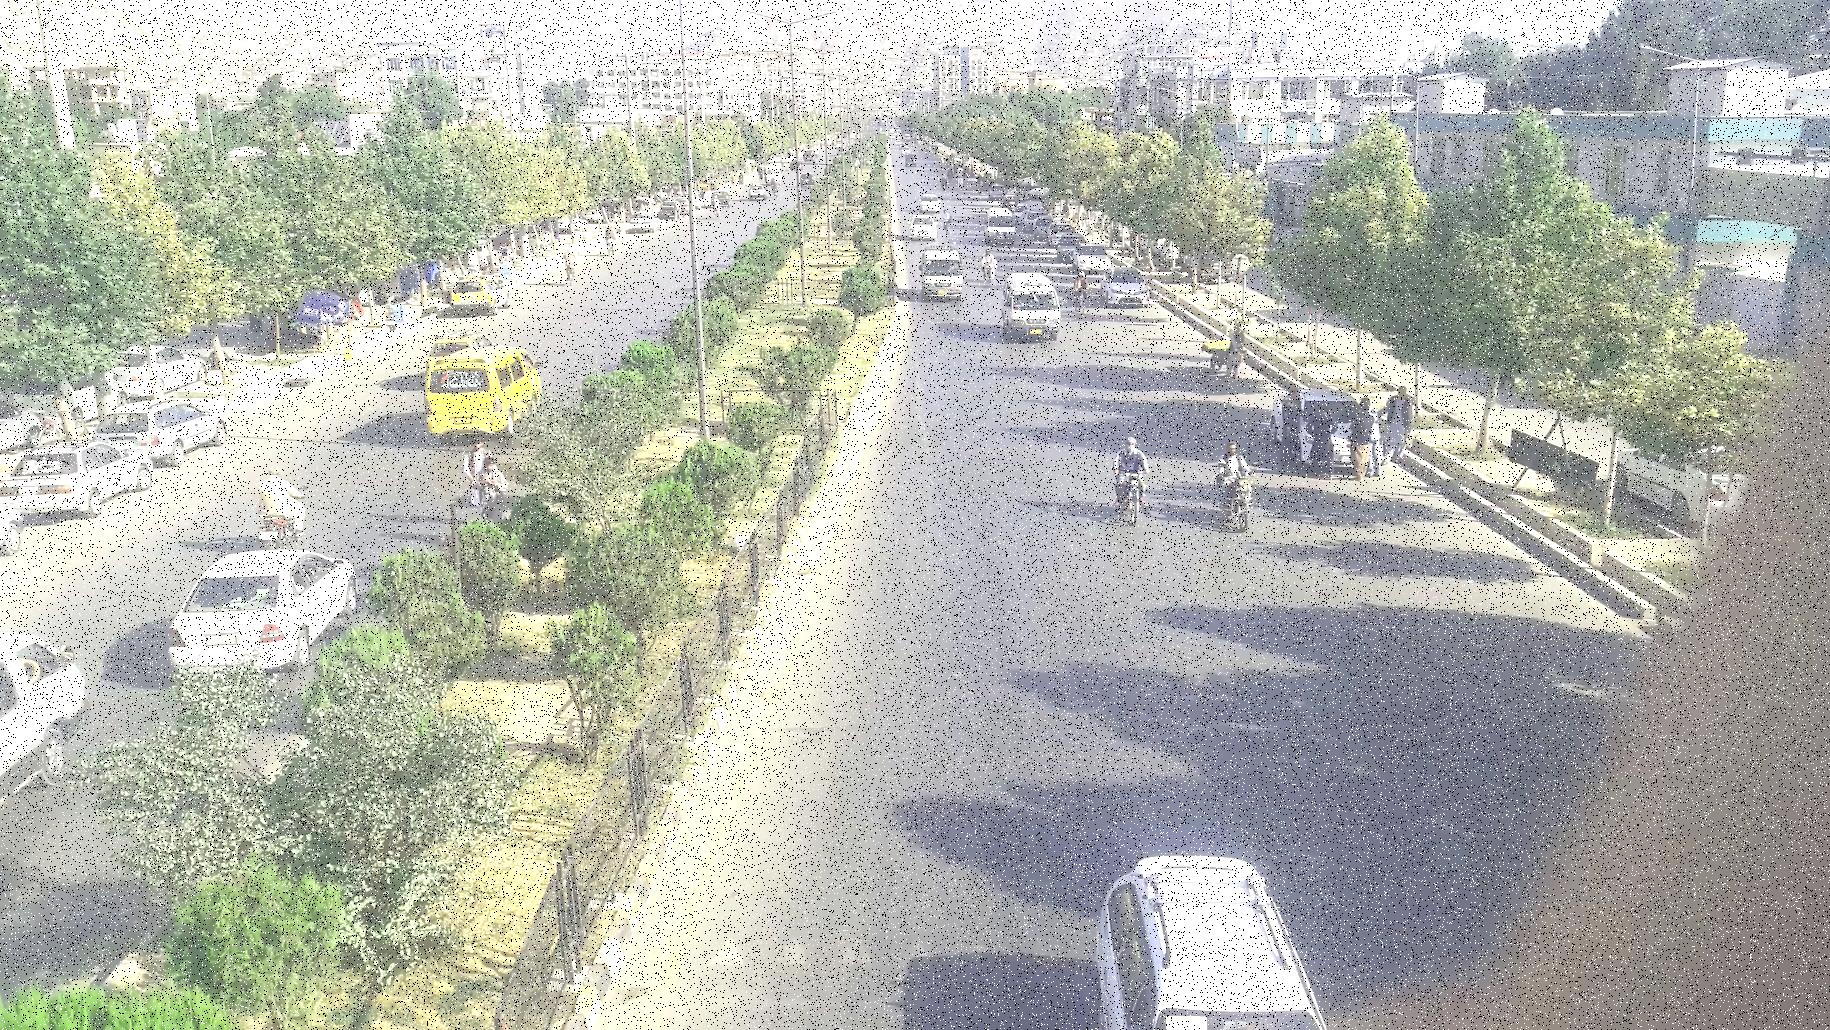bike: (1202, 444, 1262, 522), (1106, 439, 1153, 523), (982, 250, 998, 285)
bus: (410, 341, 535, 430), (920, 248, 963, 301)
car: (1092, 855, 1308, 1030), (168, 546, 352, 693), (0, 625, 79, 807), (0, 443, 158, 521), (82, 405, 212, 464), (147, 402, 229, 455), (1002, 288, 1065, 343), (1101, 267, 1150, 308), (1073, 245, 1109, 270)
